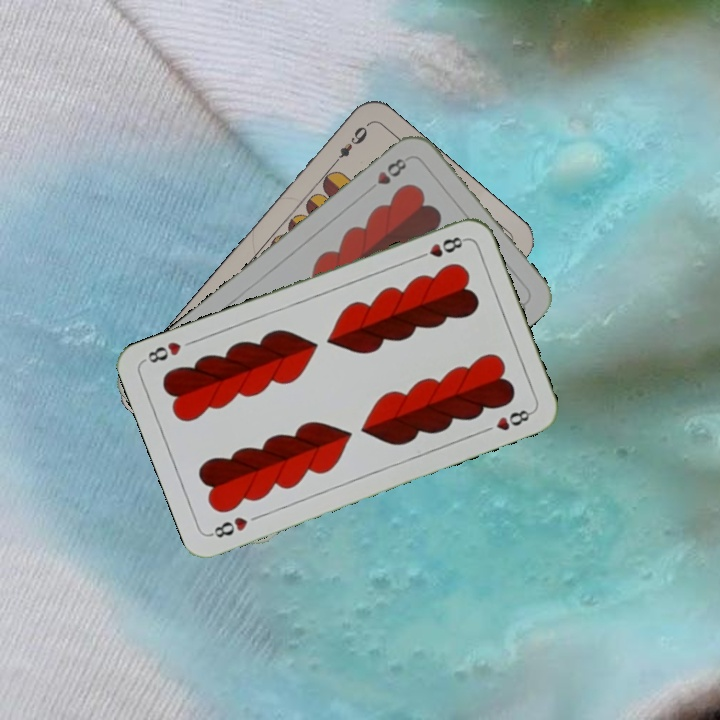E9: (328, 120, 371, 169)
H8: (362, 154, 409, 196), (411, 232, 468, 263), (206, 512, 250, 541)
